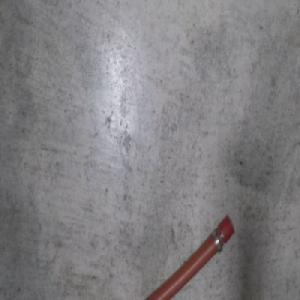Hose: (140, 215, 235, 300)
